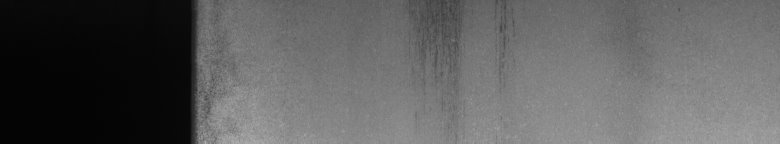ka: (415, 4, 514, 78)
